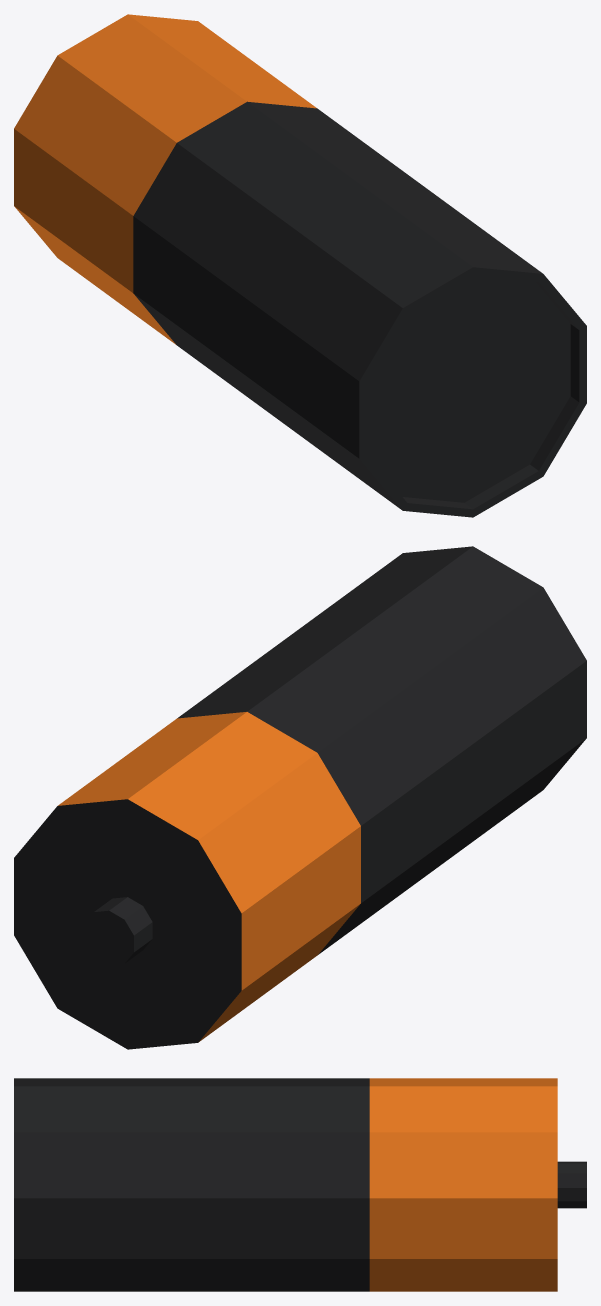
Rendered from battery.fbx.
The picture shows the model from 3 angles, top to bottom: view 1: azimuth 30°, elevation 25°; view 2: azimuth 150°, elevation 25°; view 3: azimuth 270°, elevation 25°; orthographic projection. The views are drawn at different scales.
Parts seen in each view (by area): view 1: Cylinder; view 2: Cylinder; view 3: Cylinder.
Boxes of the visible parts, box(x1,y1,x2,y2) form: Cylinder: box(14, 14, 586, 517); Cylinder: box(14, 546, 586, 1049); Cylinder: box(14, 1078, 586, 1291).
Bounding box in the file's own units: 3.8 × 4 × 10.54.
